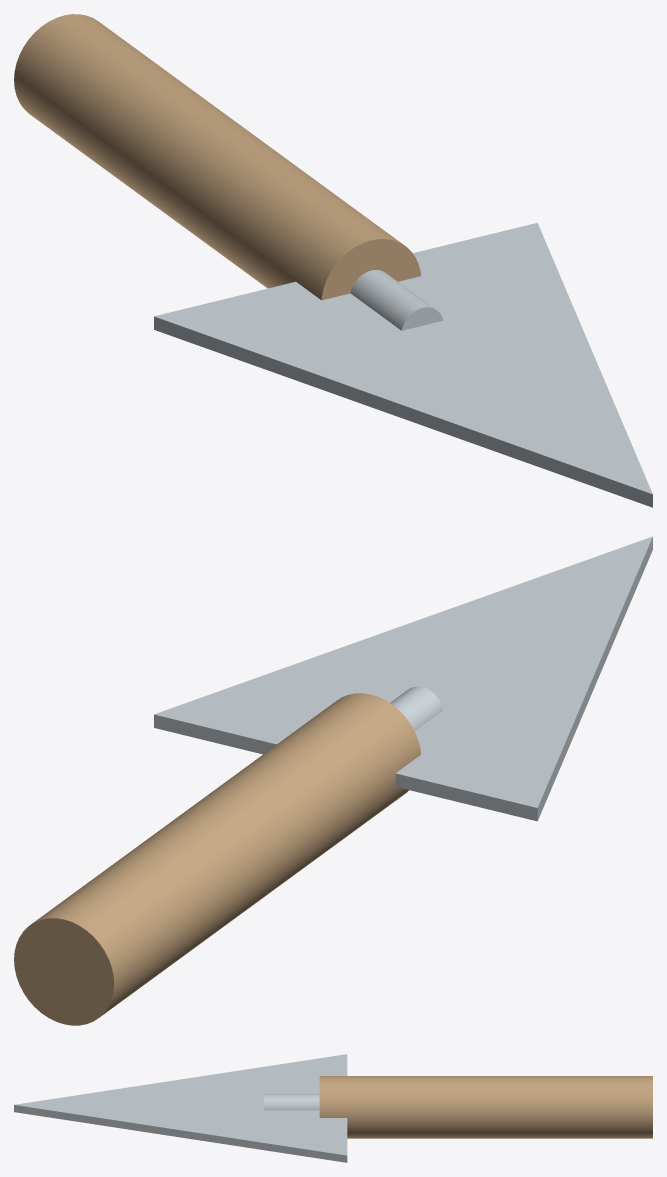
Rendered from TROWEL.glb.
3 views of the same model, one above another, from view 1: azimuth 30°, elevation 25°; view 2: azimuth 150°, elevation 25°; view 3: azimuth 270°, elevation 25° (orthographic). The views are drawn at different scales.
Parts seen in each view (by area): view 1: TROWEL/0000_blade, TROWEL/0001_handle, TROWEL/0002_tang; view 2: TROWEL/0000_blade, TROWEL/0001_handle, TROWEL/0002_tang; view 3: TROWEL/0001_handle, TROWEL/0000_blade, TROWEL/0002_tang.
Part boxes in pixels (<box>): TROWEL/0000_blade: <box>154,223,652,507</box>; TROWEL/0001_handle: <box>14,14,420,300</box>; TROWEL/0002_tang: <box>350,270,443,330</box>; TROWEL/0000_blade: <box>154,536,652,821</box>; TROWEL/0001_handle: <box>14,693,420,1025</box>; TROWEL/0002_tang: <box>390,686,443,730</box>; TROWEL/0001_handle: <box>319,1076,652,1138</box>; TROWEL/0000_blade: <box>14,1054,347,1162</box>; TROWEL/0002_tang: <box>264,1094,319,1110</box>.
Bounding box in the file's own units: 0.09 × 0.0235 × 0.2392.
